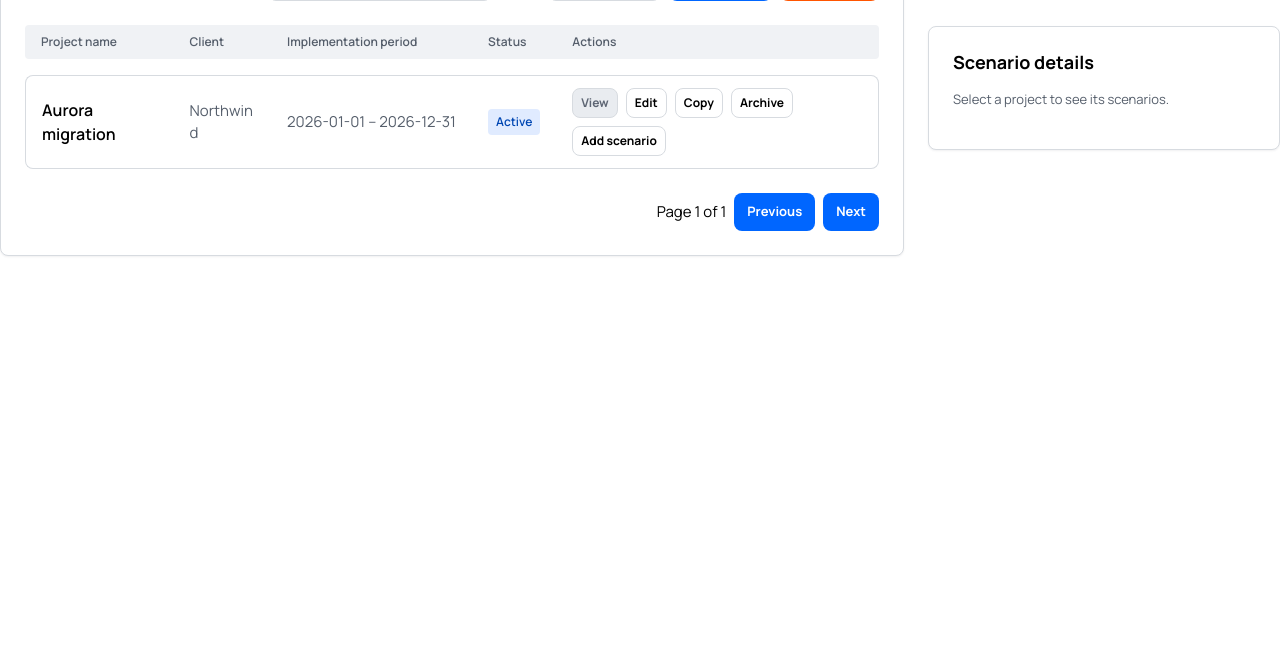
Test: K-04 — the five catalogue identifiers resolve through their own CATALOG_READ, independent of STAFFING_READ › still renders headcount, hours and named states when the catalogue read is denied — identifiers show a distinguishable state, never the raw UUID
Click the button "Aurora migration". click: x=100, y=122
box: [42, 98, 158, 146]
(page scrolled)
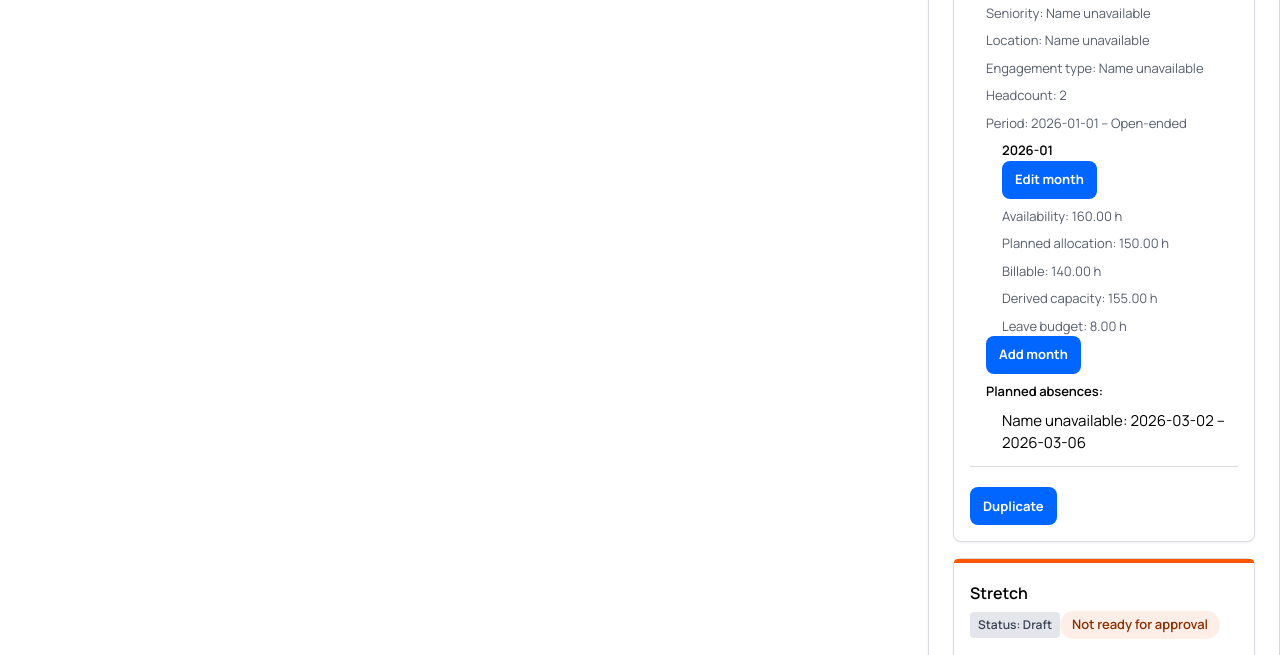
Now the text "Headcount: 2" is shown, box [986, 86, 1067, 104]
Now the text "Availability: 160.00 h" is shown, box [1002, 206, 1122, 224]
Now the text "Derived capacity: 155.00 h" is shown, box [1002, 289, 1158, 307]
